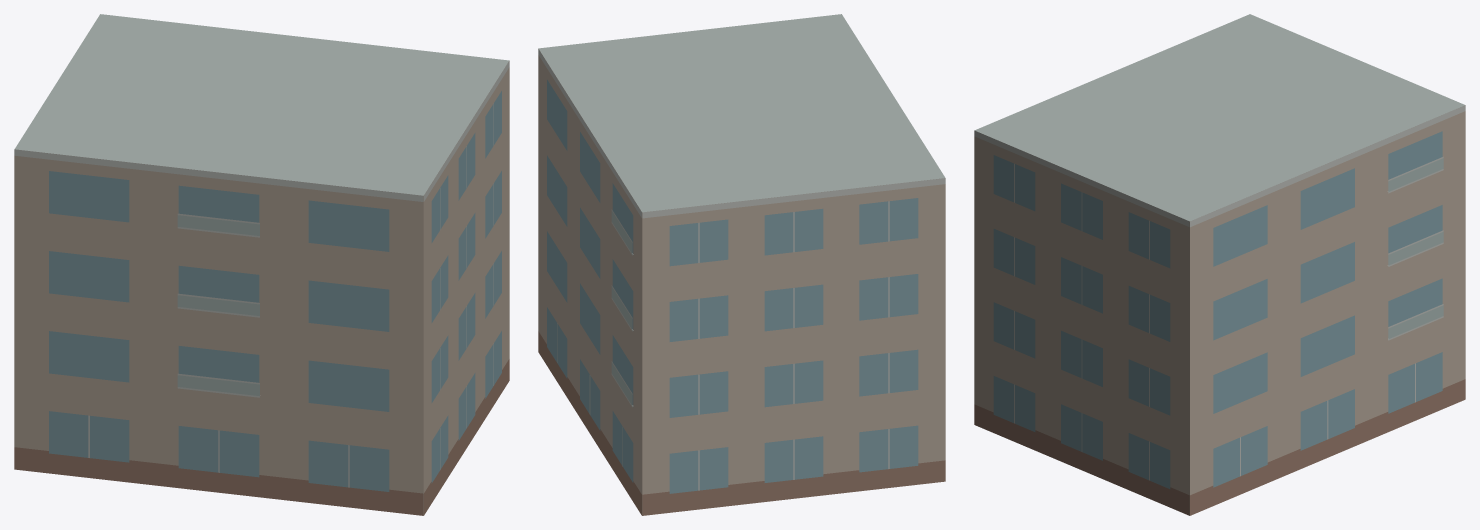
Rendered from residential-33ff66bf-0fe3-465c-b7dd-7f7ea33f2464.glb.
The picture shows the model from 3 angles, left to right: view 1: azimuth 30°, elevation 25°; view 2: azimuth 150°, elevation 25°; view 3: azimuth 270°, elevation 25°; orthographic projection. The views are drawn at different scales.
Parts seen in each view (by area): view 1: residential-33ff66bf-0fe3-465c-b7dd-7f7ea33f2464.tmp; view 2: residential-33ff66bf-0fe3-465c-b7dd-7f7ea33f2464.tmp; view 3: residential-33ff66bf-0fe3-465c-b7dd-7f7ea33f2464.tmp.
Part boxes in pixels (left/top/right/bottom): residential-33ff66bf-0fe3-465c-b7dd-7f7ea33f2464.tmp: left=14, top=14, right=509, bottom=515; residential-33ff66bf-0fe3-465c-b7dd-7f7ea33f2464.tmp: left=538, top=14, right=945, bottom=515; residential-33ff66bf-0fe3-465c-b7dd-7f7ea33f2464.tmp: left=974, top=14, right=1465, bottom=515.
Bounding box in the file's own units: 18.45 × 12.2 × 18.45.
